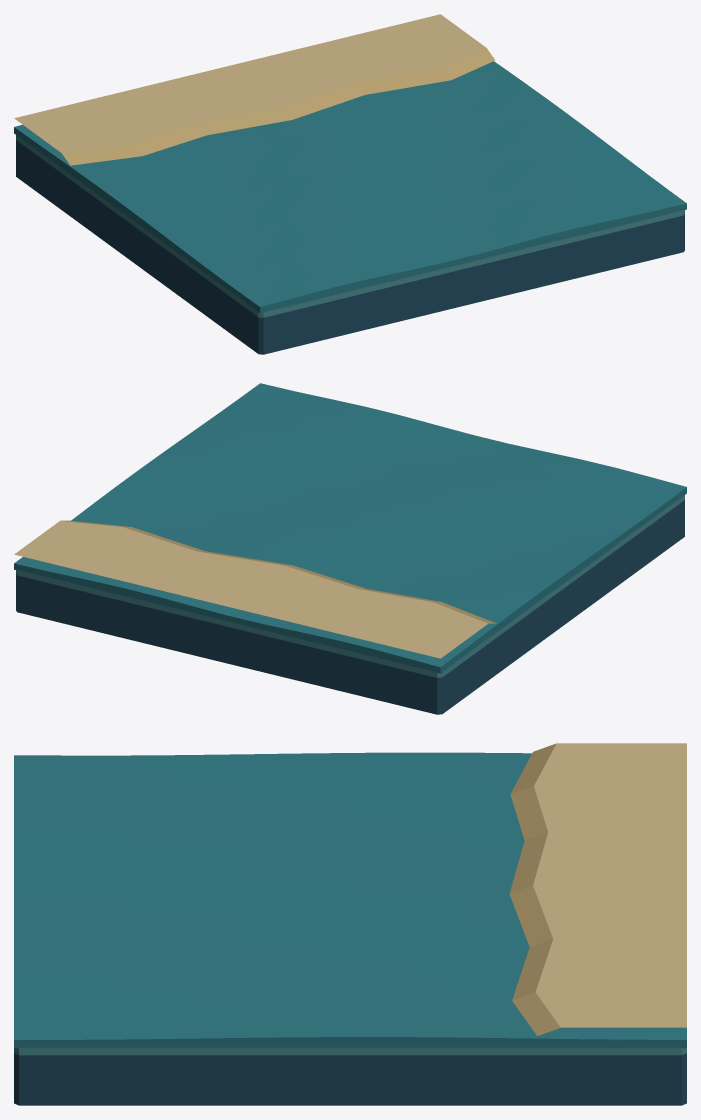
3 views of the same model, one above another, from view 1: azimuth 30°, elevation 25°; view 2: azimuth 150°, elevation 25°; view 3: azimuth 270°, elevation 25° (orthographic). The views are drawn at different scales.
Visible parts, largest first — view 1: B12_港湾礁岸; view 2: B12_港湾礁岸; view 3: B12_港湾礁岸.
Boxes of the visible parts, x1,y1,x2,y2 form: B12_港湾礁岸: (14,14,686,354); B12_港湾礁岸: (14,383,686,714); B12_港湾礁岸: (14,743,686,1105).
Size of the model in its own units: 8 by 1.02 by 8.
